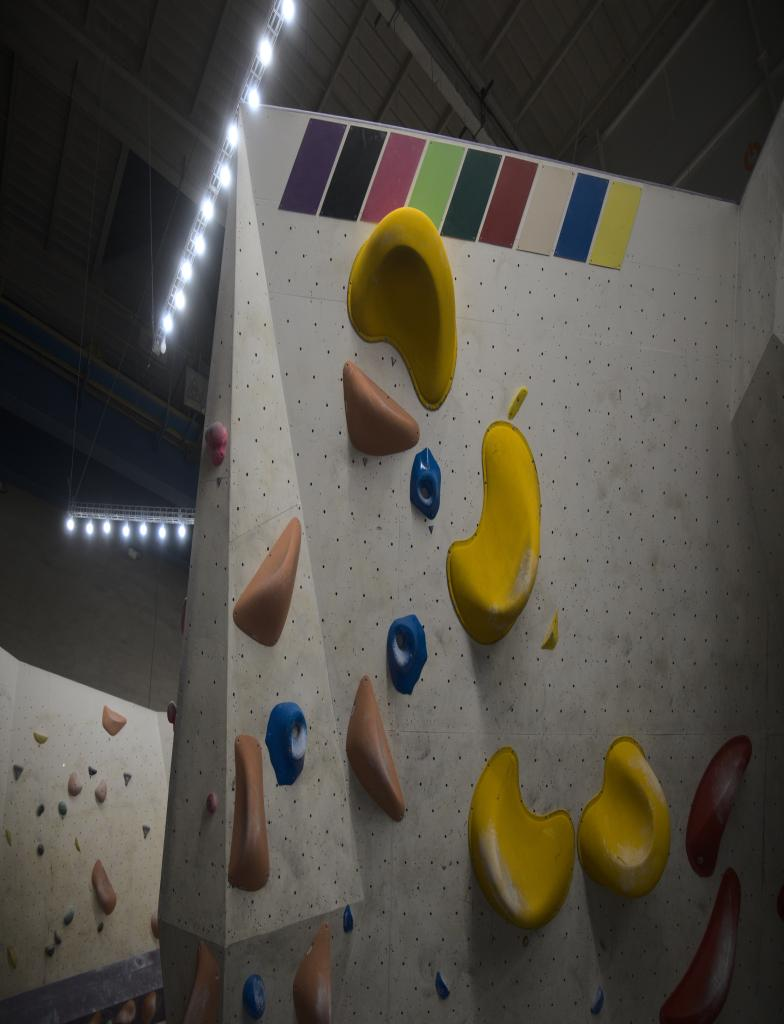crimp: (507, 386, 528, 419)
jib: (242, 973, 265, 1020), (542, 610, 558, 649), (435, 972, 449, 999), (591, 986, 603, 1015)
jug: (205, 422, 228, 465), (95, 780, 107, 803), (167, 701, 176, 724)
ledge: (347, 207, 457, 408), (447, 421, 540, 643), (468, 747, 574, 929), (577, 736, 670, 898), (233, 517, 301, 646), (346, 675, 405, 820), (343, 360, 419, 455), (102, 705, 127, 736), (34, 731, 48, 744)
pocket: (265, 702, 307, 784), (388, 615, 427, 694), (410, 448, 441, 519)
sidepull: (228, 735, 269, 891)
undercling: (686, 735, 752, 876)
